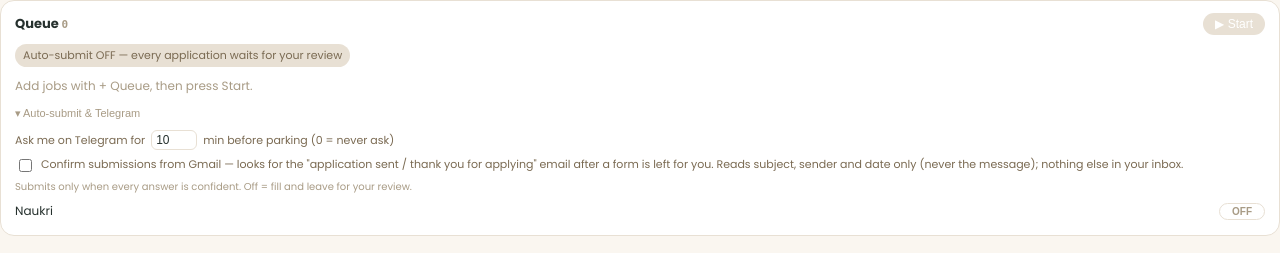
Test: the Telegram wait loads, is clamped to 0-120 and saved on blur
Replace the text in the number field named "Telegram wait minutes" with "999" at [174, 140], box left=151, top=130, right=197, bottom=150
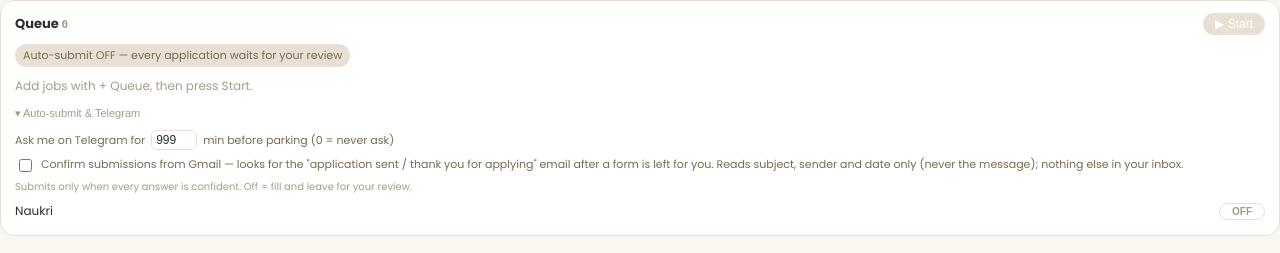
Leave the number field named "Telegram wait minutes", box left=151, top=130, right=197, bottom=150
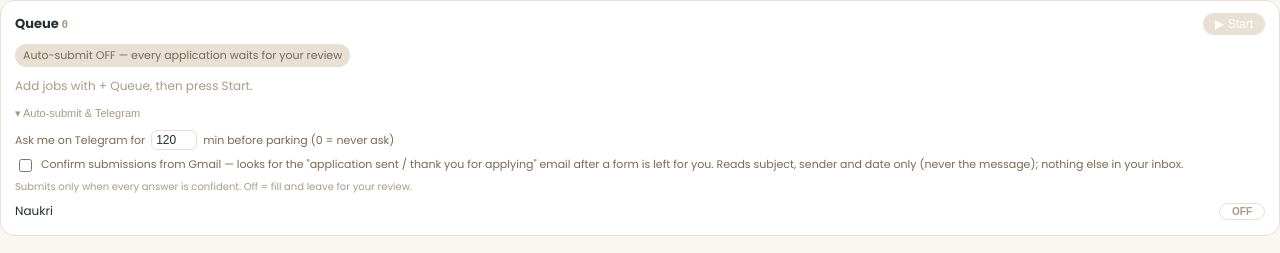
Result: the number field named "Telegram wait minutes" holds "120" at left=151, top=130, right=197, bottom=150
